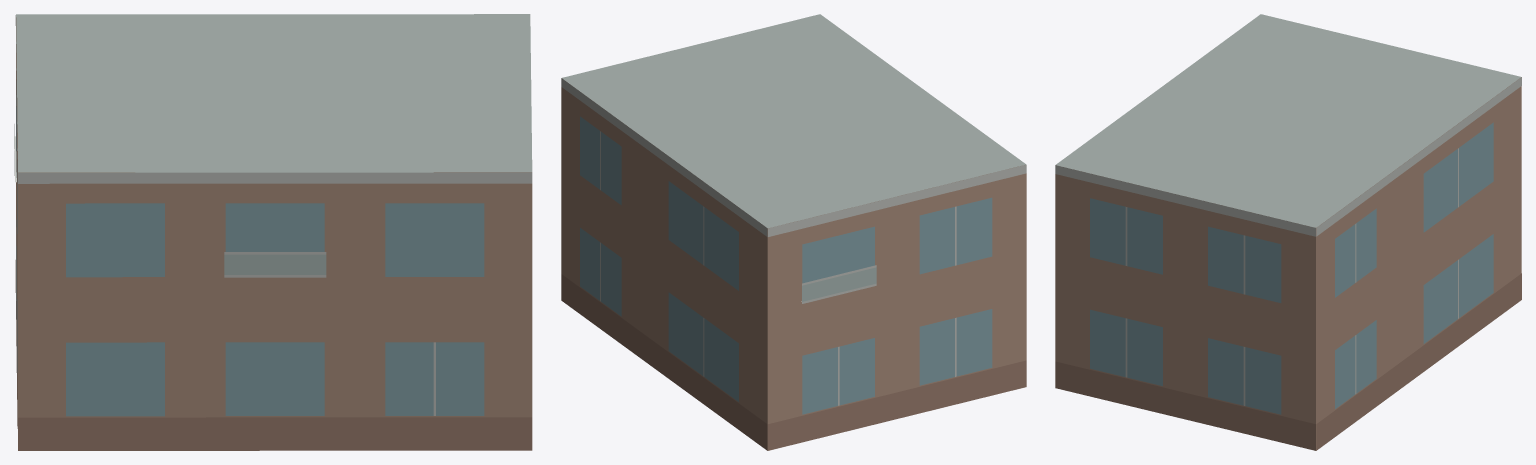
The model's file is survey-upis-32723857.glb.
The picture shows the model from 3 angles, left to right: view 1: azimuth 30°, elevation 25°; view 2: azimuth 150°, elevation 25°; view 3: azimuth 270°, elevation 25°; orthographic projection. The views are drawn at different scales.
Visible parts, largest first — view 1: survey-upis-32723857.tmp; view 2: survey-upis-32723857.tmp; view 3: survey-upis-32723857.tmp.
Part boxes in pixels (bbox=[...]): survey-upis-32723857.tmp: bbox=[14, 14, 532, 450]; survey-upis-32723857.tmp: bbox=[561, 14, 1026, 450]; survey-upis-32723857.tmp: bbox=[1055, 14, 1521, 450].
Size of the model in its own units: 12.56 by 6.1 by 11.58.
